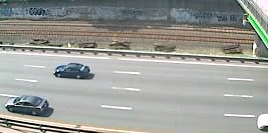car: (3, 93, 52, 117), (50, 61, 92, 81)
